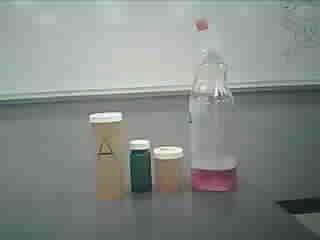Bottle A: (85, 108, 128, 202)
Bottle B: (154, 135, 185, 197)
Bottle C: (125, 129, 157, 199)
hazard: (180, 8, 254, 193)
